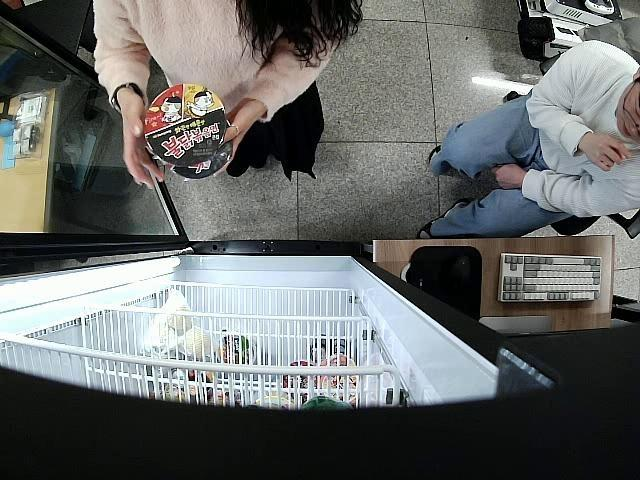07_buldak_L: (144, 82, 226, 163)
